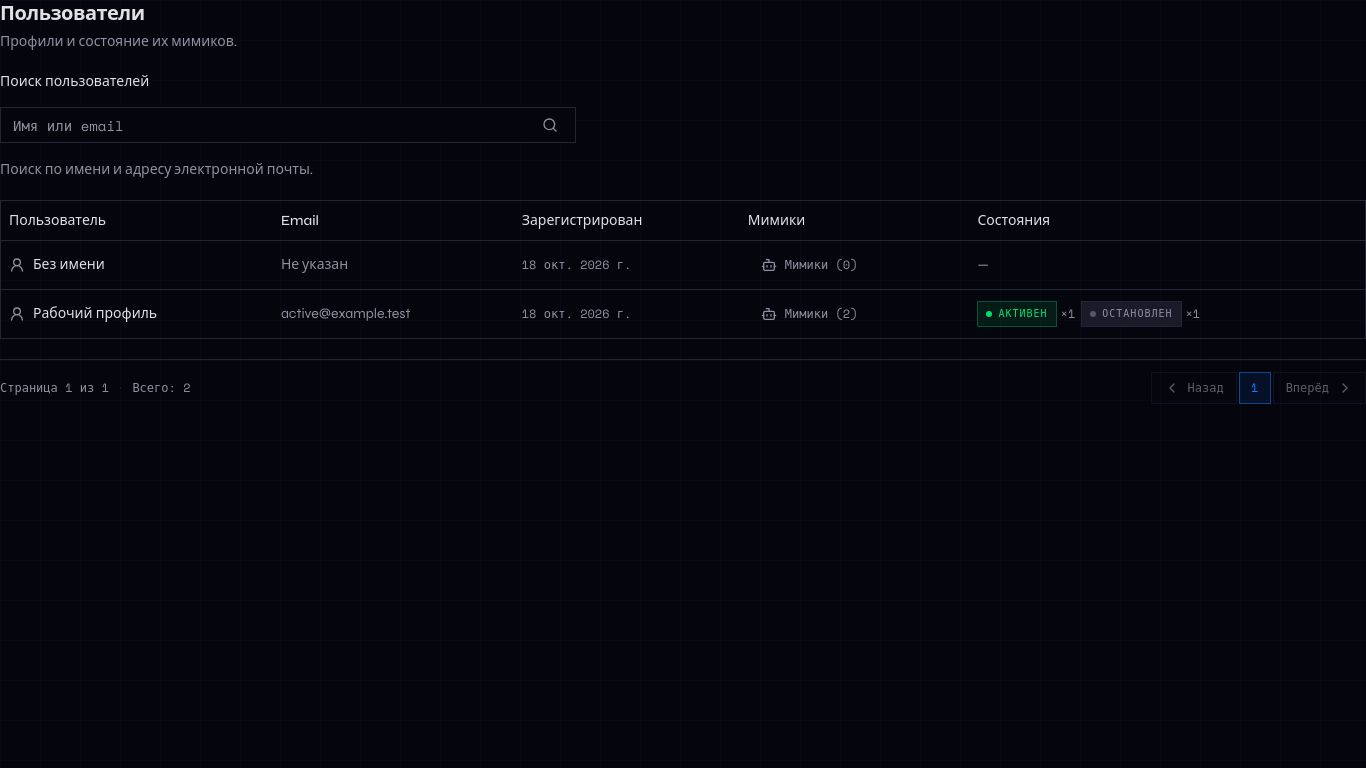
Test: AdminUsers › shows missing profile values and users without agents without inventing actions
Expected: the text "Без имени" is shown, [33,255,105,275]
Expected: the text "Не указан" is shown, [273,241,514,290]
Click the button "Мимики (0)" at (809, 265), box [748,249,871,281]
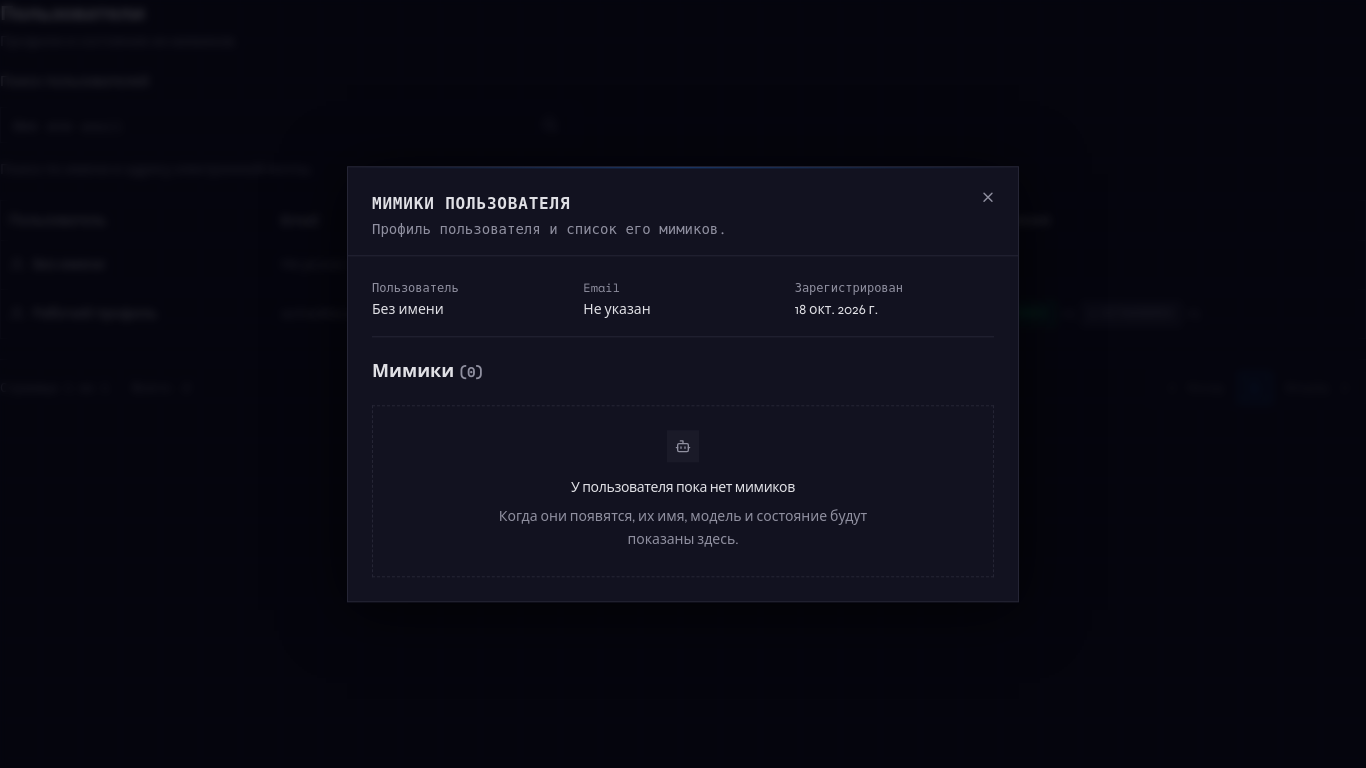
Now the text "У пользователя пока нет мимиков" is shown, box [571,478,795,498]
